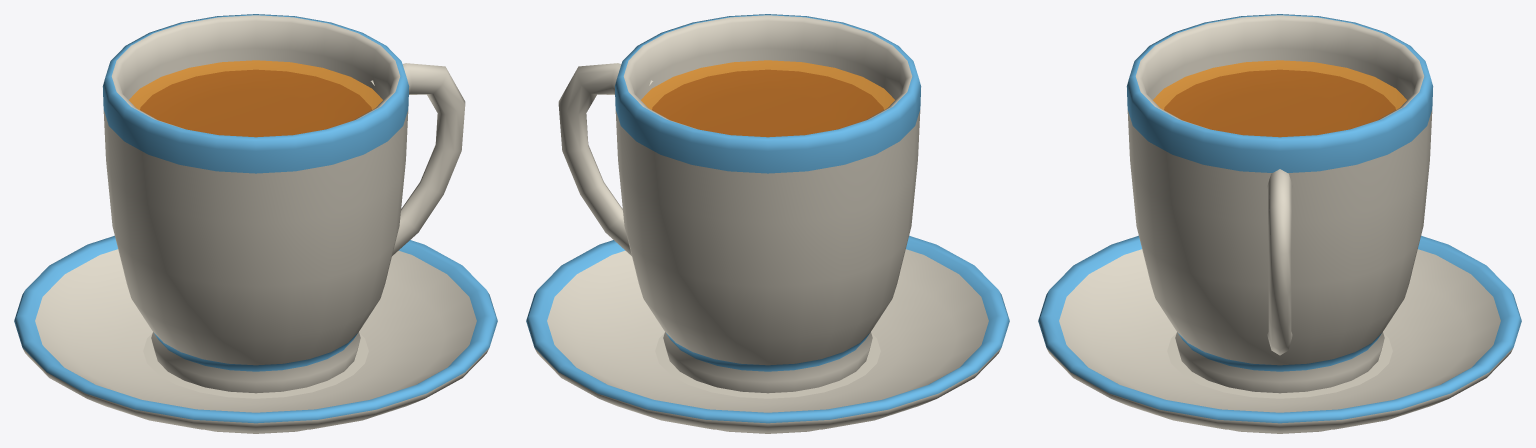
File: table_tasse.glb
3 views of the same model, side by side, from view 1: azimuth 30°, elevation 25°; view 2: azimuth 150°, elevation 25°; view 3: azimuth 270°, elevation 25° (orthographic).
Visible parts, largest first — view 1: table_tasse; view 2: table_tasse; view 3: table_tasse.
Boxes of the visible parts, x1,y1,x2,y2 form: table_tasse: (14,14,497,433); table_tasse: (526,14,1009,433); table_tasse: (1038,14,1521,433).
Size of the model in its own units: 6 by 4 by 6.
